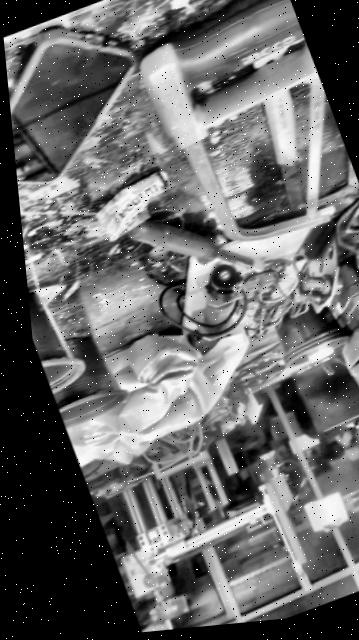pot: (26, 267, 89, 394), (52, 336, 125, 428)
